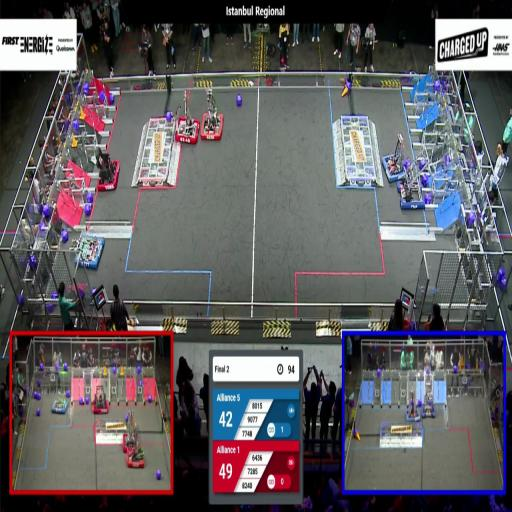robot: (166, 88, 198, 151), (398, 146, 426, 218), (68, 223, 104, 275), (92, 144, 124, 195), (383, 123, 409, 185), (201, 89, 223, 144), (49, 374, 71, 422), (121, 412, 143, 454), (126, 440, 150, 472), (404, 384, 420, 427), (90, 384, 110, 418), (423, 384, 436, 424)
